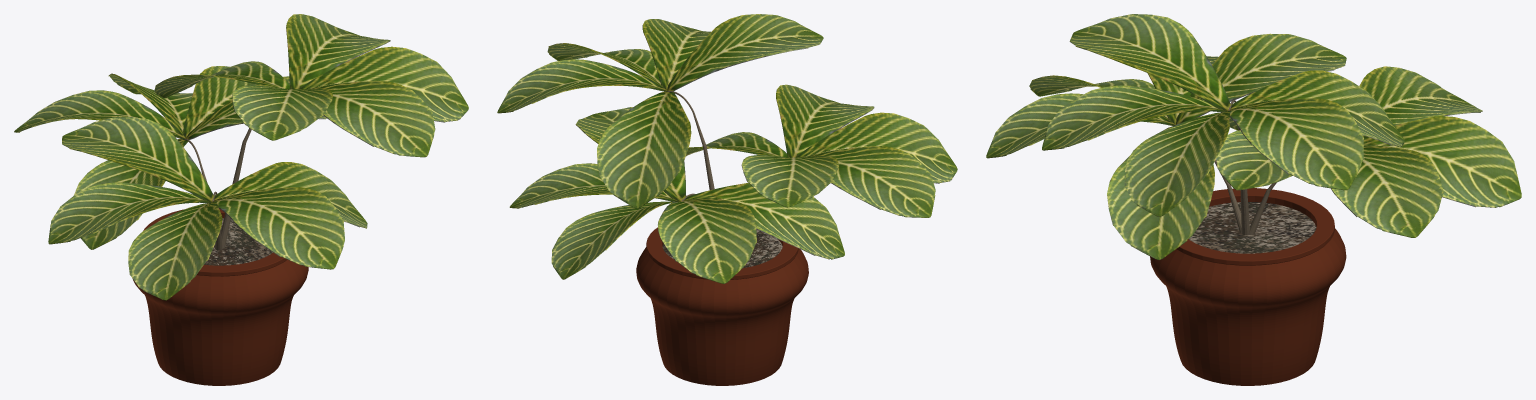
The model's file is Wk8_Plant_Zhang_Tansi.fbx.
3 renders of one model, left to right at view 1: azimuth 30°, elevation 25°; view 2: azimuth 150°, elevation 25°; view 3: azimuth 270°, elevation 25°, orthographic. The views are drawn at different scales.
Visible parts, largest first — view 1: geo_Pot, geo_Leaf1, geo_Leaf, geo_Leaf2, geo_Leaf11, geo_Leaf34, geo_Leaf12, geo_Leaf33, geo_Leaf32, geo_Leaf20, geo_Leaf3, geo_Leaf22 (+6 smaller); view 2: geo_Pot, geo_Leaf31, geo_Leaf20, geo_Leaf12, geo_Leaf32, geo_Leaf22, geo_Leaf2, geo_Leaf33, geo_Leaf11, geo_Leaf19, geo_Leaf1, geo_Leaf5 (+6 smaller); view 3: geo_Pot, geo_Leaf33, geo_Leaf19, geo_Leaf32, geo_Leaf5, geo_Leaf34, geo_Leaf, geo_Leaf11, geo_Leaf3, geo_Earth, geo_Leaf31, geo_Leaf20 (+4 smaller).
Boxes of the visible parts, x1,y1,x2,y2 form: geo_Pot: (132, 208, 308, 385); geo_Leaf1: (211, 187, 344, 269); geo_Leaf: (312, 81, 435, 157); geo_Leaf2: (128, 201, 222, 300); geo_Leaf11: (62, 117, 213, 201); geo_Leaf34: (300, 46, 468, 122); geo_Leaf12: (48, 182, 211, 244); geo_Leaf33: (286, 14, 390, 89); geo_Leaf32: (232, 85, 332, 140); geo_Leaf20: (14, 90, 185, 139); geo_Leaf3: (214, 162, 367, 228); geo_Leaf22: (73, 139, 188, 249); geo_Pot: (636, 227, 808, 385); geo_Leaf31: (597, 91, 691, 208); geo_Leaf20: (658, 198, 756, 283); geo_Leaf12: (808, 146, 935, 217); geo_Leaf32: (667, 14, 823, 91); geo_Leaf22: (683, 183, 844, 259); geo_Leaf2: (797, 112, 957, 183); geo_Leaf33: (497, 59, 667, 113); geo_Leaf11: (741, 155, 838, 207); geo_Leaf19: (551, 201, 679, 279); geo_Leaf1: (776, 84, 874, 157); geo_Leaf5: (509, 163, 678, 208); geo_Pot: (1150, 188, 1346, 385); geo_Leaf33: (1227, 98, 1364, 190); geo_Leaf19: (1363, 116, 1521, 207); geo_Leaf32: (1069, 14, 1230, 110); geo_Leaf5: (1331, 145, 1443, 237); geo_Leaf34: (1124, 111, 1231, 216); geo_Leaf: (1042, 85, 1227, 150); geo_Leaf11: (1176, 33, 1346, 124); geo_Leaf3: (1107, 126, 1214, 260); geo_Earth: (1189, 202, 1316, 253); geo_Leaf31: (1230, 70, 1404, 147); geo_Leaf20: (1359, 66, 1482, 125).
Bounding box in the file's own units: 18.97 × 13.41 × 19.89.
